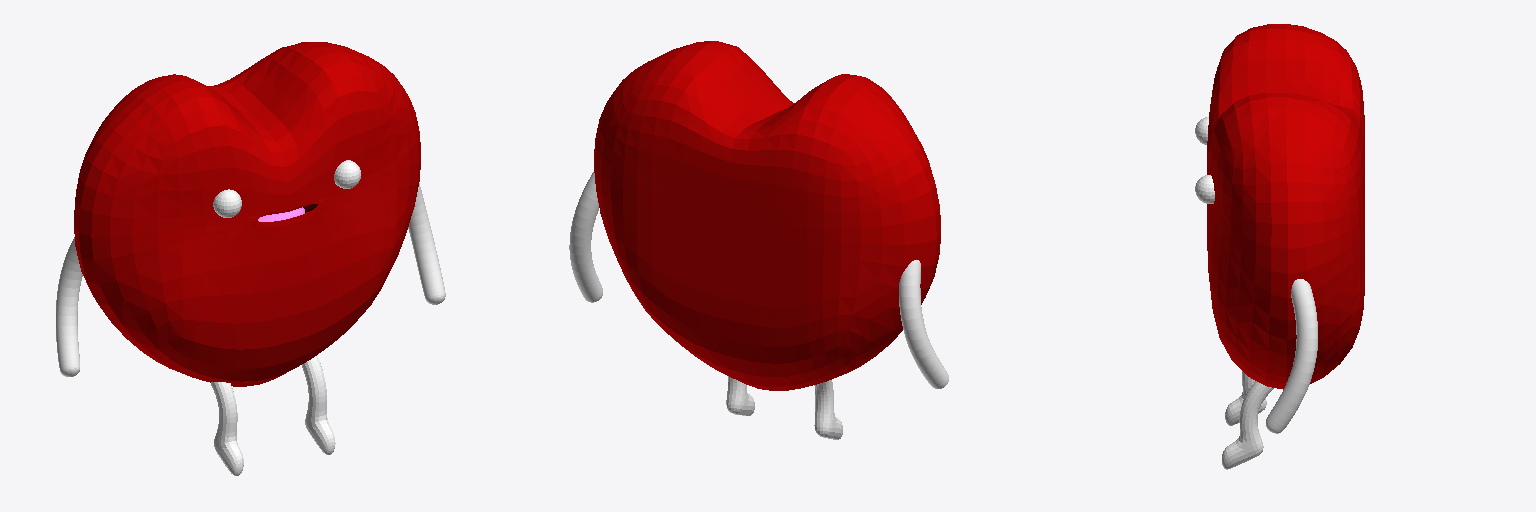
Rendered from corazón.obj.
3 views of the same model, side by side, from view 1: azimuth 30°, elevation 25°; view 2: azimuth 150°, elevation 25°; view 3: azimuth 270°, elevation 25° (orthographic).
Visible parts, largest first — view 1: Simetría.1_1, brazo_izq, brazo_der, pie_izq, pie_der, Simetría.1; view 2: Simetría.1_1, brazo_izq, brazo_der, pie_izq, pie_der; view 3: Simetría.1_1, brazo_der, pie_der, Simetría.1, pie_izq.
Boxes of the visible parts, box(x1,y1,x2,y2) form: Simetría.1_1: box(74, 42, 420, 386); brazo_izq: box(56, 237, 82, 376); brazo_der: box(408, 183, 445, 304); pie_izq: box(211, 382, 243, 475); pie_der: box(302, 356, 335, 454); Simetría.1: box(213, 160, 360, 217); Simetría.1_1: box(594, 41, 940, 390); brazo_izq: box(899, 260, 948, 388); brazo_der: box(569, 172, 602, 302); pie_izq: box(814, 380, 842, 439); pie_der: box(726, 376, 754, 415); Simetría.1_1: box(1207, 24, 1364, 389); brazo_der: box(1266, 279, 1317, 433); pie_der: box(1222, 381, 1273, 469); Simetría.1: box(1195, 117, 1214, 203); pie_izq: box(1225, 371, 1266, 425).
Bounding box in the file's own units: 301 × 293 × 118.